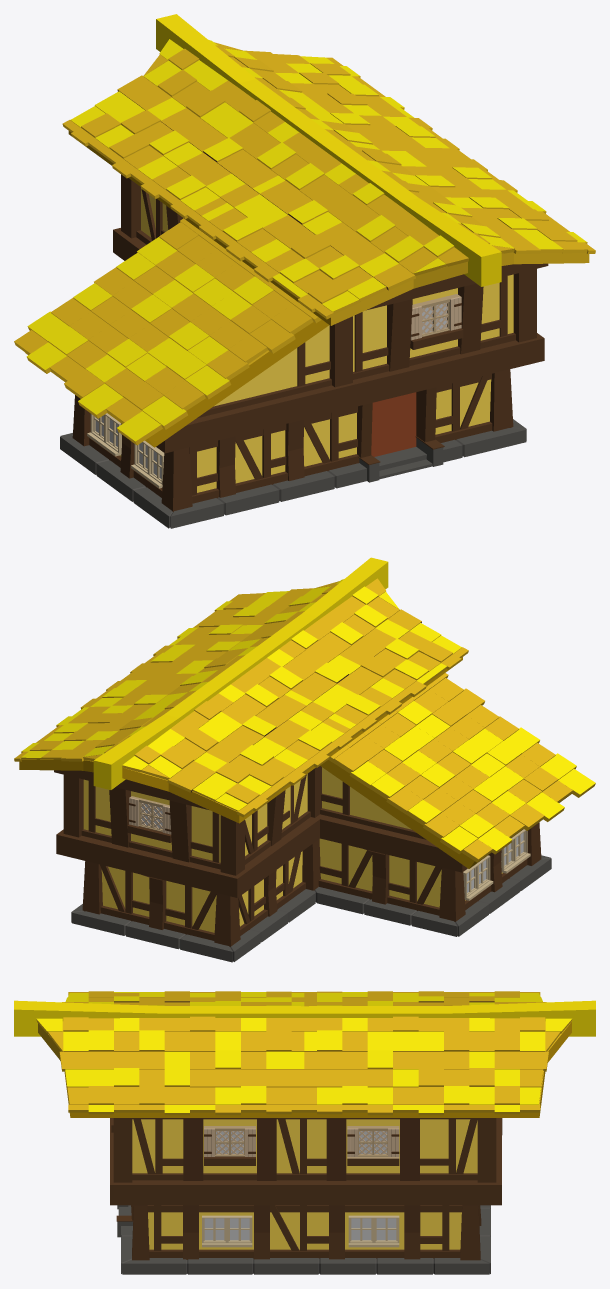
The model's file is SM_Hous_22_A.gltf.
3 views of the same model, one above another, from view 1: azimuth 30°, elevation 25°; view 2: azimuth 150°, elevation 25°; view 3: azimuth 270°, elevation 25° (orthographic). The views are drawn at different scales.
Visible parts, largest first — view 1: SM_Hous_22_A; view 2: SM_Hous_22_A; view 3: SM_Hous_22_A.
Boxes of the visible parts, box(x1,y1,x2,y2) form: SM_Hous_22_A: box(14, 14, 595, 528); SM_Hous_22_A: box(14, 557, 595, 962); SM_Hous_22_A: box(14, 991, 595, 1274).
Bounding box in the file's own units: 12.31 × 6.77 × 15.56.
